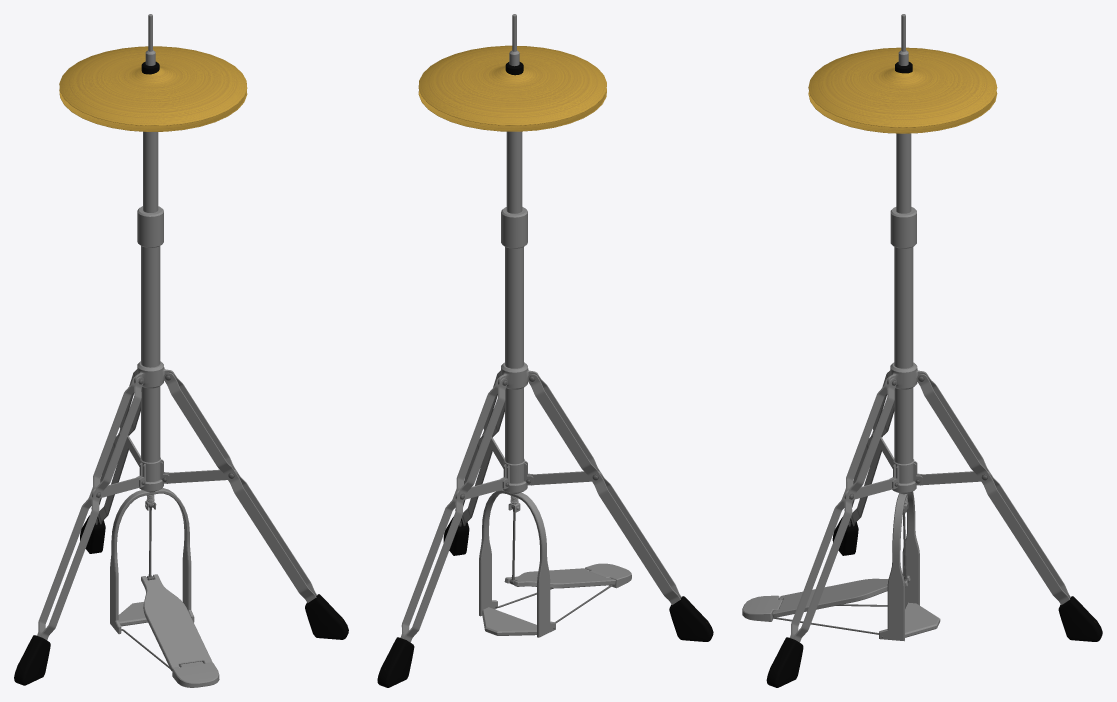
File: hihat.fbx
3 renders of one model, left to right at view 1: azimuth 30°, elevation 25°; view 2: azimuth 150°, elevation 25°; view 3: azimuth 270°, elevation 25°, orthographic.
Parts seen in each view (by area): view 1: Legs.005, Cymbal_HiHat.001; view 2: Legs.005, Cymbal_HiHat.001; view 3: Legs.005, Cymbal_HiHat.001.
Boxes of the visible parts, x1,y1,x2,y2 form: Legs.005: (14, 14, 348, 687); Cymbal_HiHat.001: (59, 46, 247, 131); Legs.005: (377, 14, 713, 687); Cymbal_HiHat.001: (418, 45, 606, 131); Legs.005: (742, 14, 1102, 687); Cymbal_HiHat.001: (808, 47, 997, 133).
Size of the model in its own units: 204 by 394 by 211.
1 material, 1 textured.
